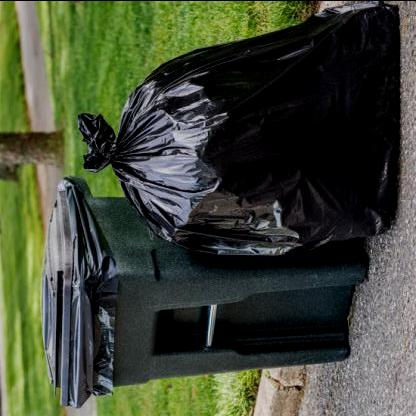black_bag: (76, 1, 401, 258)
